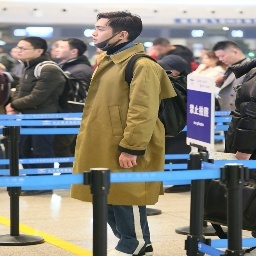noWear: (91, 22, 129, 52), (15, 39, 43, 60), (213, 47, 238, 66), (54, 41, 79, 59), (153, 40, 171, 54), (201, 54, 216, 68)
